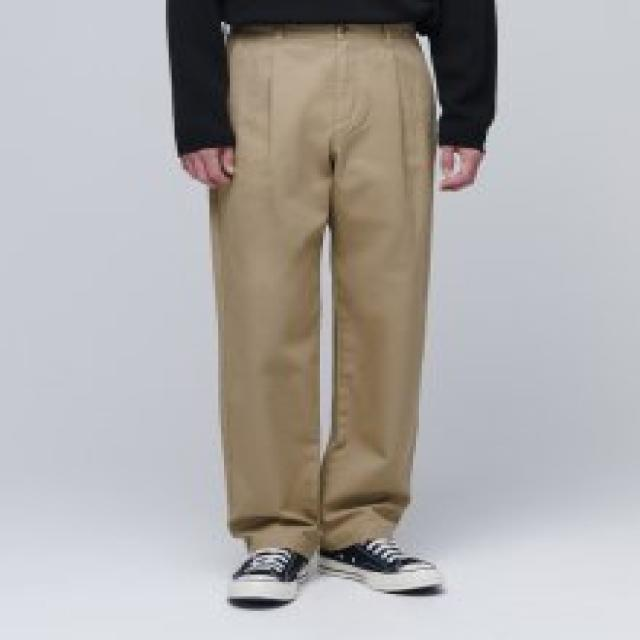long-pants: (208, 21, 437, 562)
